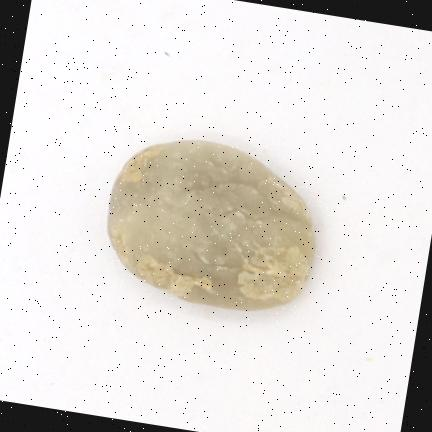immature: (107, 141, 315, 310)
